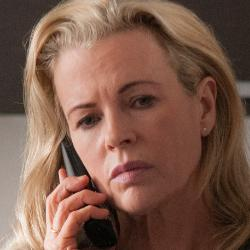face: (15, 5, 246, 229)
